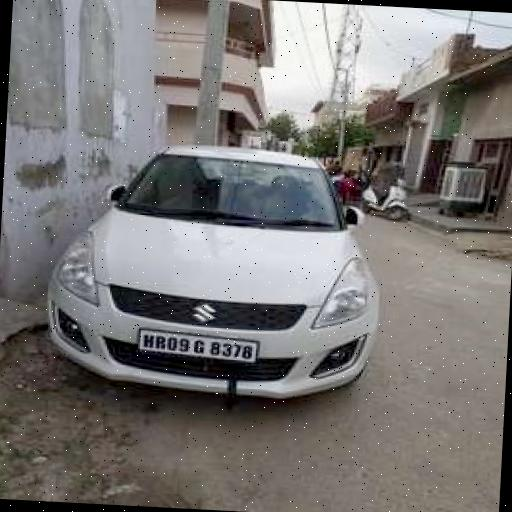license_plate`: (136, 327, 257, 361)
